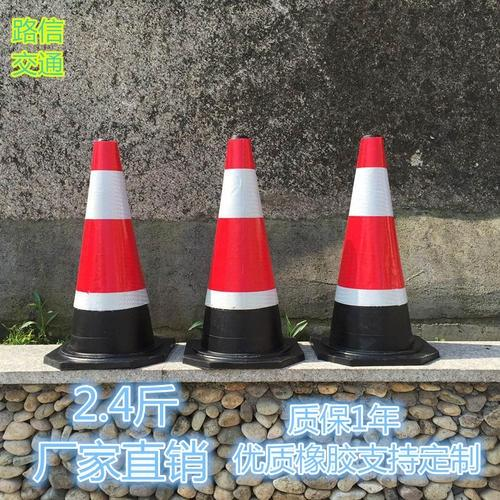cone_barrel: (187, 140, 298, 366), (319, 140, 431, 362), (54, 146, 164, 362)
